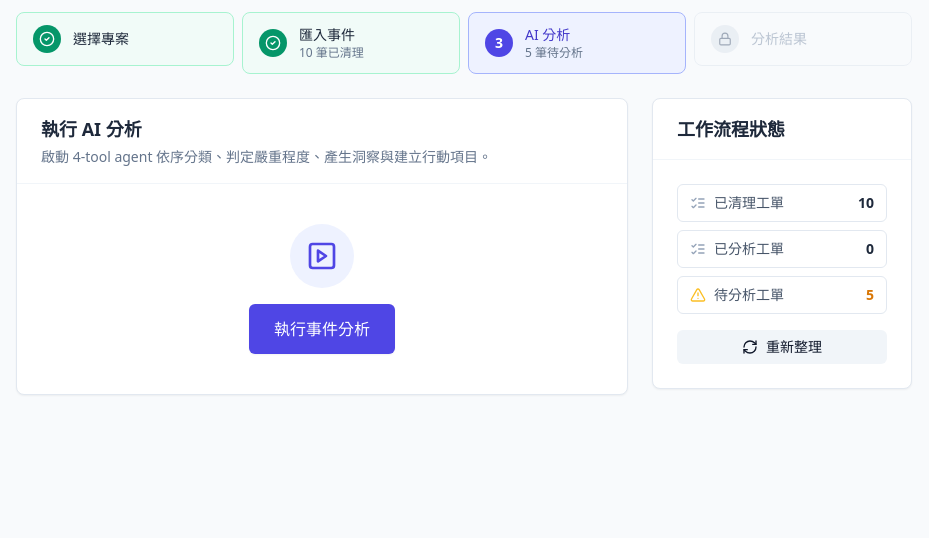
Test: EventInsightsWorkflowPage 分析流程 › 分析失敗時留在分析步驟並提供重試
Click the button "執行事件分析".
click(322, 329)  # box [249,304,395,354]
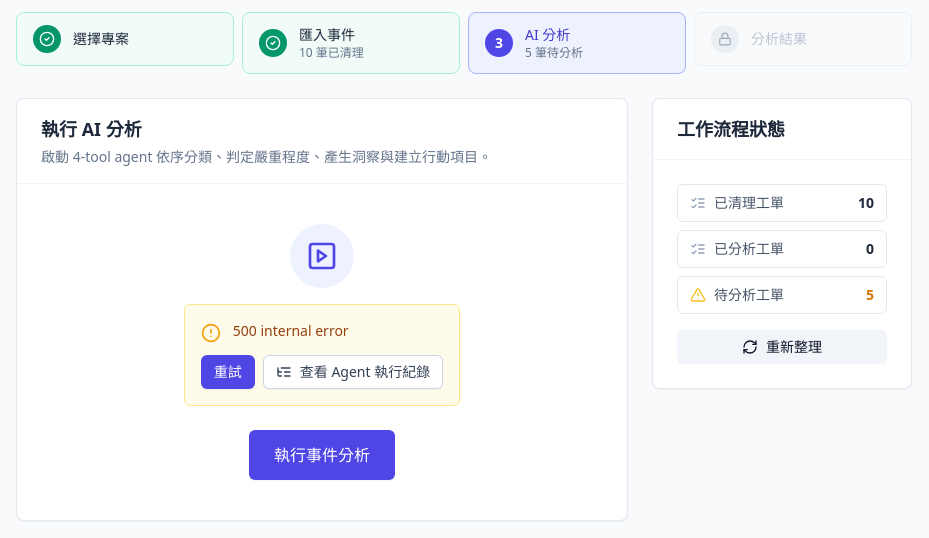
Expected: the heading "執行 AI 分析" is shown, [41,117,142,141]
Expected: the button "重試" is shown, [201,355,255,389]
